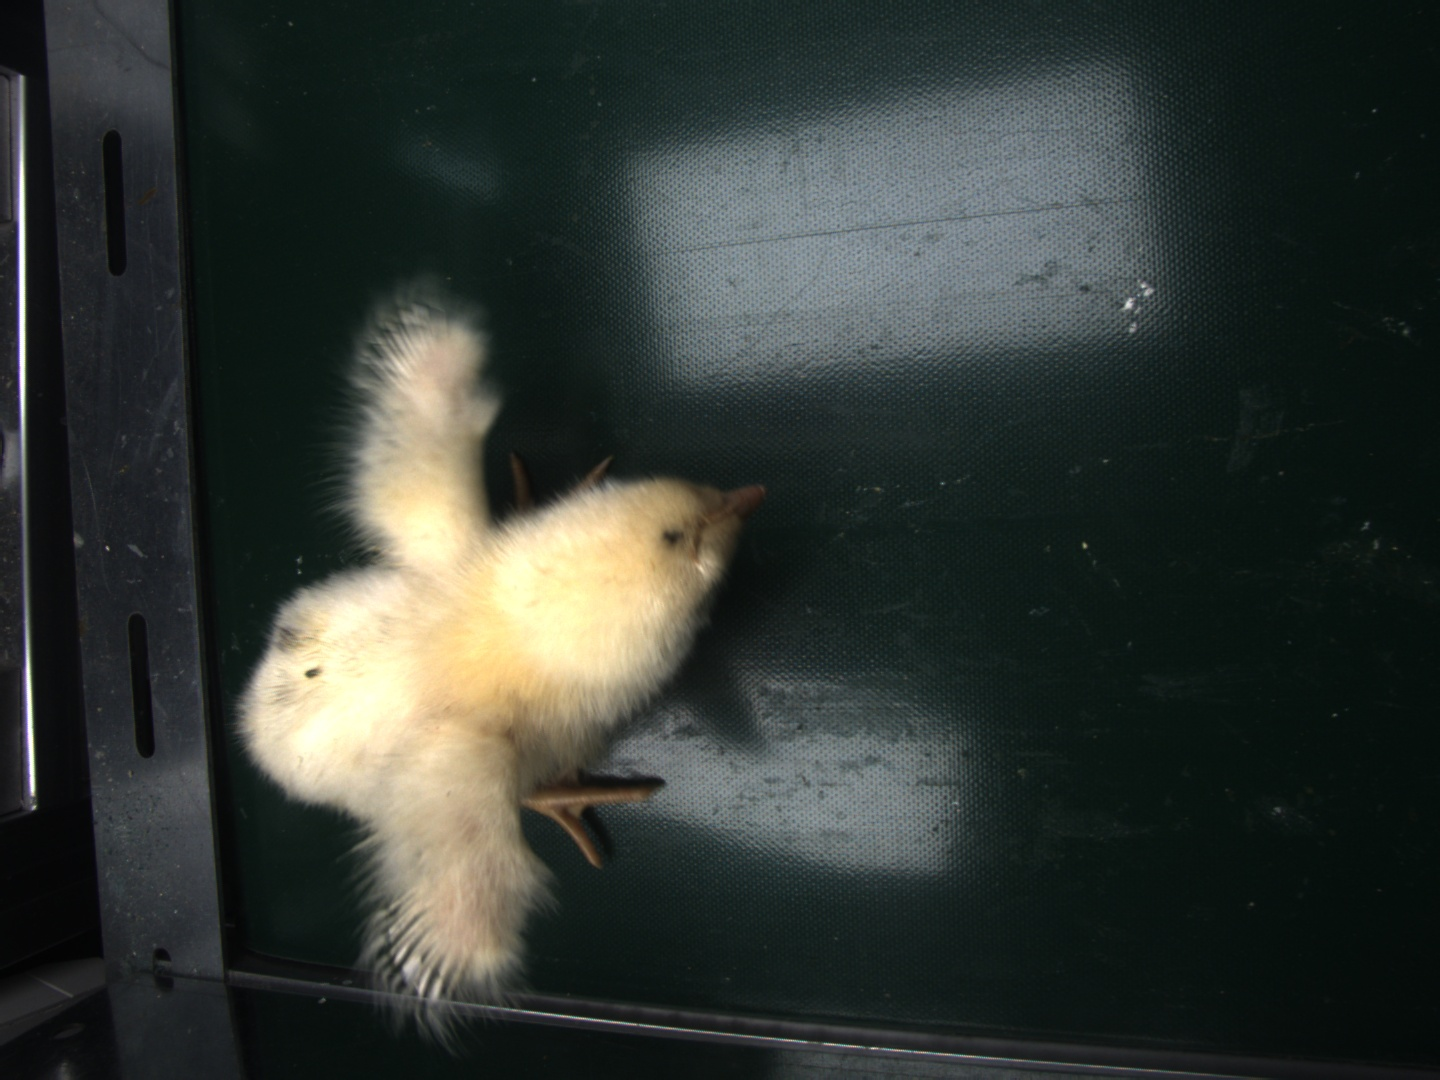male: (380, 895, 471, 1001), (370, 313, 441, 381)
